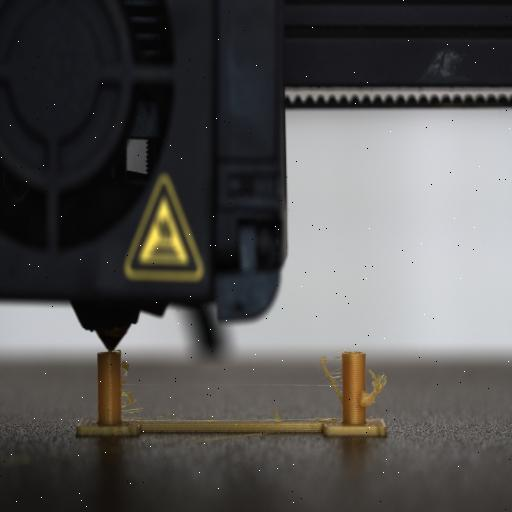stringing: (318, 350, 344, 418), (120, 354, 144, 422), (362, 372, 390, 418)
